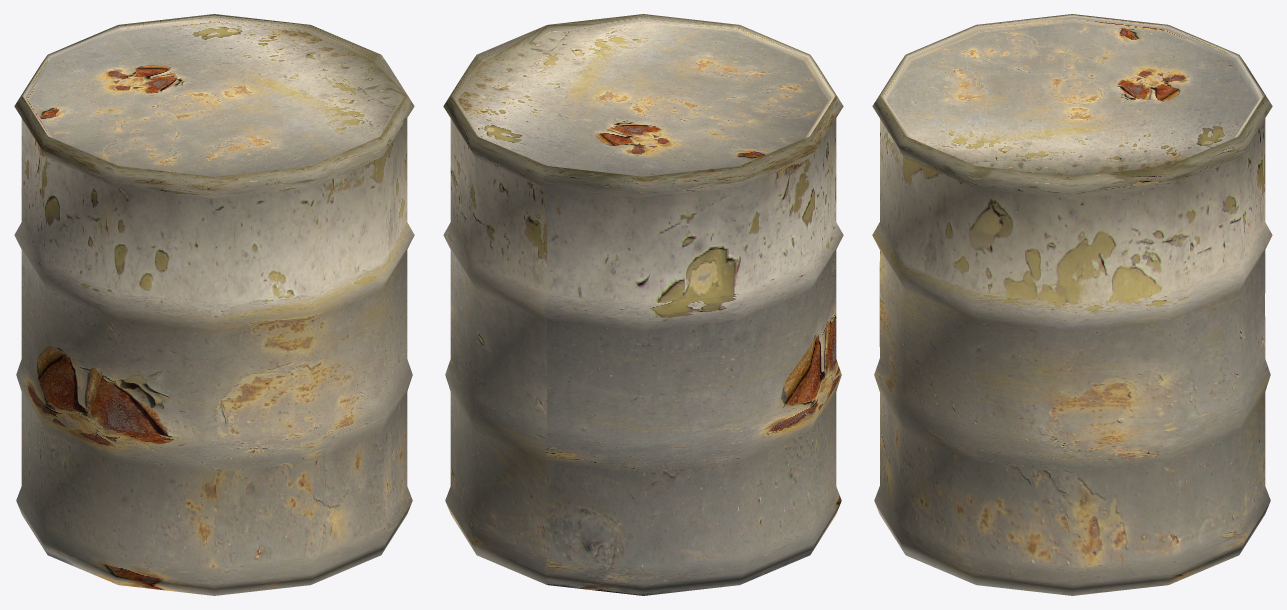
File: NormalBarrel.FBX
3 views of the same model, side by side, from view 1: azimuth 30°, elevation 25°; view 2: azimuth 150°, elevation 25°; view 3: azimuth 270°, elevation 25° (orthographic).
Parts seen in each view (by area): view 1: NormalBarrel; view 2: NormalBarrel; view 3: NormalBarrel.
Boxes of the visible parts, x1,y1,x2,y2 form: NormalBarrel: (14, 14, 414, 595); NormalBarrel: (443, 14, 843, 595); NormalBarrel: (872, 14, 1272, 595).
Size of the model in its own units: 1.04 by 1.2 by 1.04.
